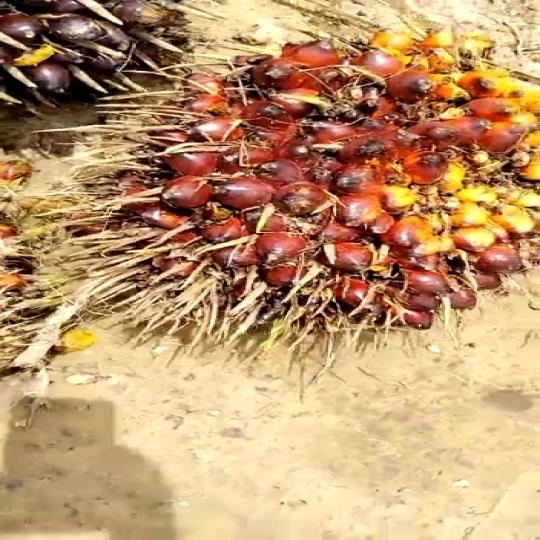masak: (65, 21, 540, 373)
